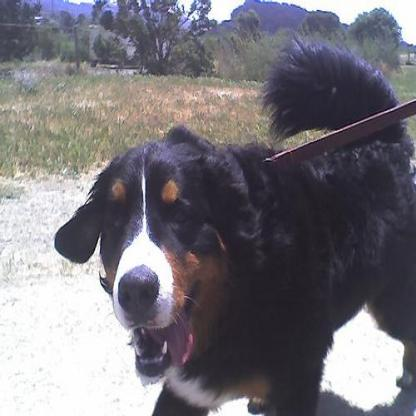Bernese_mountain_dog: (53, 30, 414, 414)
